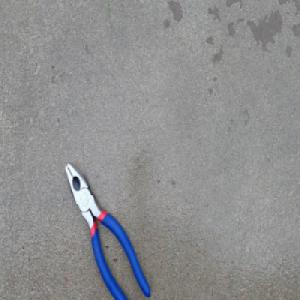Pliers: (65, 160, 152, 300)
